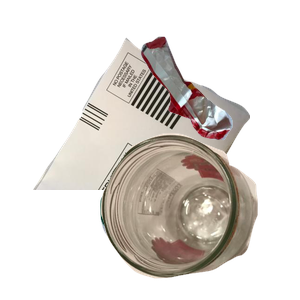glass: (98, 131, 300, 300)
paper: (31, 35, 271, 215)
plastic: (98, 176, 266, 300)
trash: (139, 34, 300, 167)
